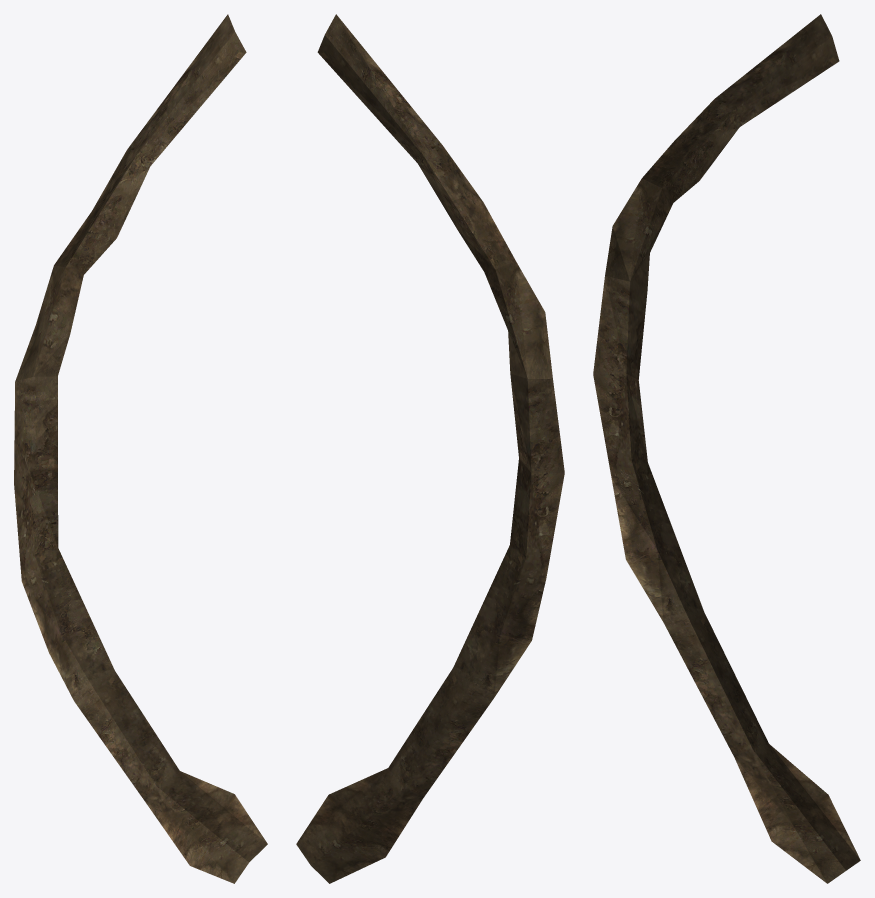
The model's file is juqing_yewai_542_yaheng_03.obj.
3 renders of one model, left to right at view 1: azimuth 30°, elevation 25°; view 2: azimuth 150°, elevation 25°; view 3: azimuth 330°, elevation 25°, orthographic.
Visible parts, largest first — view 1: juqing_yewai_542_yaheng_03; view 2: juqing_yewai_542_yaheng_03; view 3: juqing_yewai_542_yaheng_03.
Part boxes in pixels (box(x1,y1,x2,y2)): juqing_yewai_542_yaheng_03: box(14, 14, 267, 883); juqing_yewai_542_yaheng_03: box(296, 14, 564, 883); juqing_yewai_542_yaheng_03: box(593, 14, 860, 883).
Size of the model in its own units: 254 by 810 by 17.82.
1 material, 1 textured.
